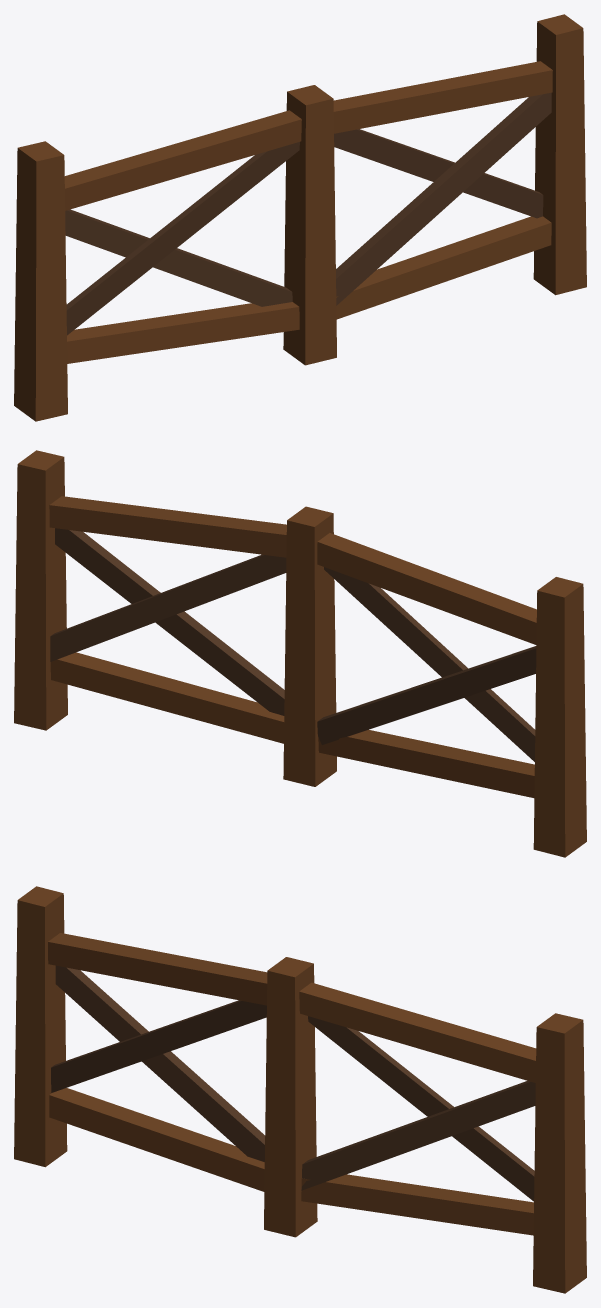
File: Barrier.glb
3 renders of one model, top to bottom at view 1: azimuth 30°, elevation 25°; view 2: azimuth 150°, elevation 25°; view 3: azimuth 330°, elevation 25°, orthographic.
Parts seen in each view (by area): view 1: Barrier2; view 2: Barrier2; view 3: Barrier2.
Part boxes in pixels (x1,y1,x2,y2): Barrier2: [14, 14, 586, 421]; Barrier2: [14, 450, 586, 857]; Barrier2: [14, 886, 586, 1293].
Bounding box in the file's own units: 2.12 × 0.9515 × 0.2105.
Materials: 1 (1 with a texture image).
